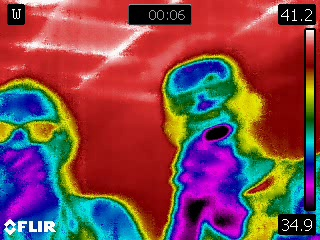human: (155, 44, 320, 240), (1, 78, 153, 240)
